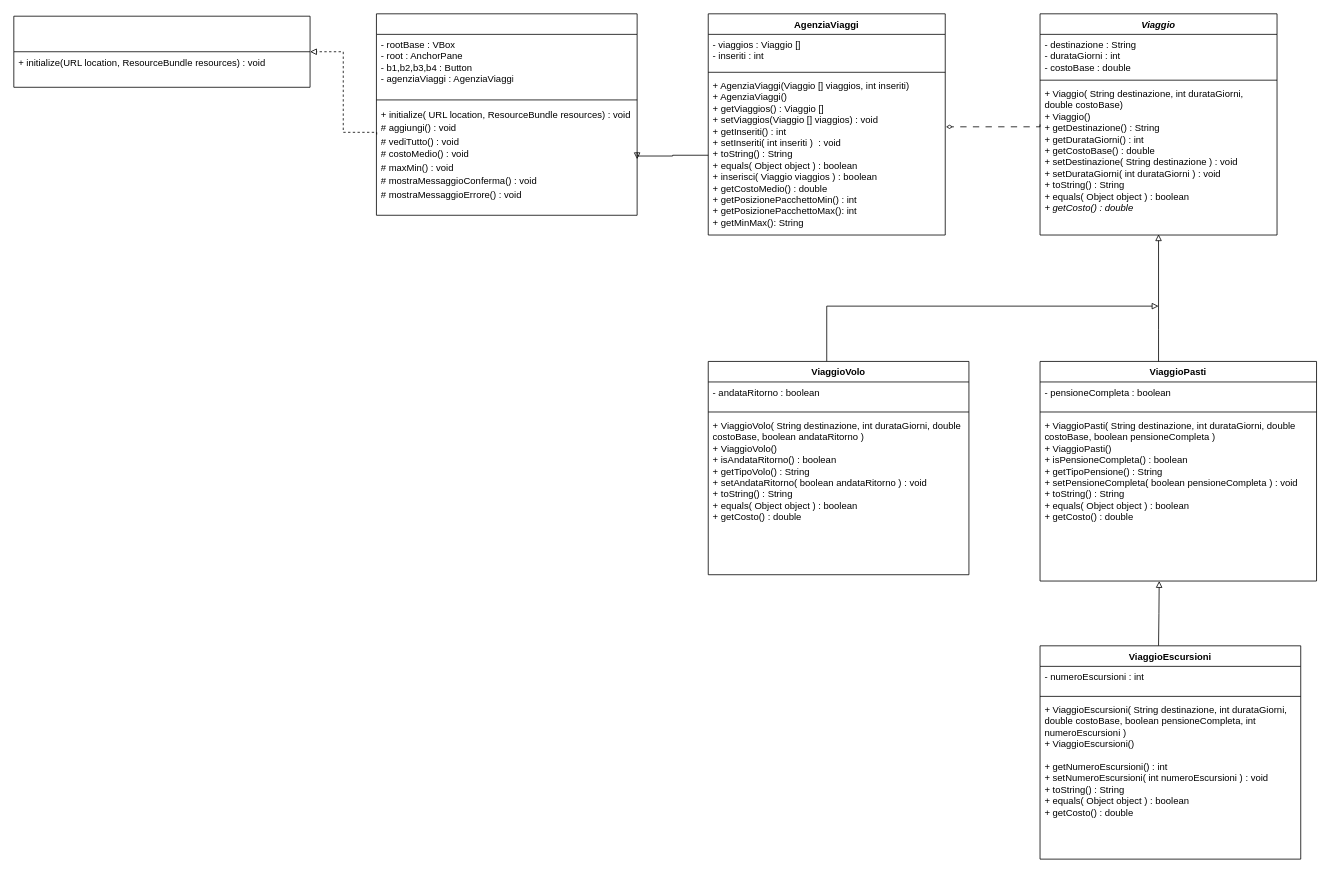
Image size: 1330x875. Some labels were removed from this diagram. Here are the shapes that lost their labels. From the top down, the box of each, then its label:
(13, 15, 310, 87): <<Interface>> Initializable
(376, 13, 637, 215): HelloController
